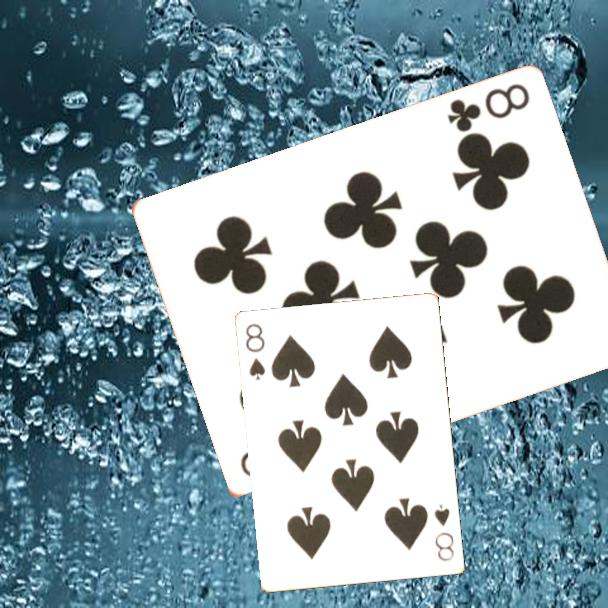c08: (444, 80, 533, 136)
s08: (431, 501, 457, 564), (242, 321, 268, 383)
